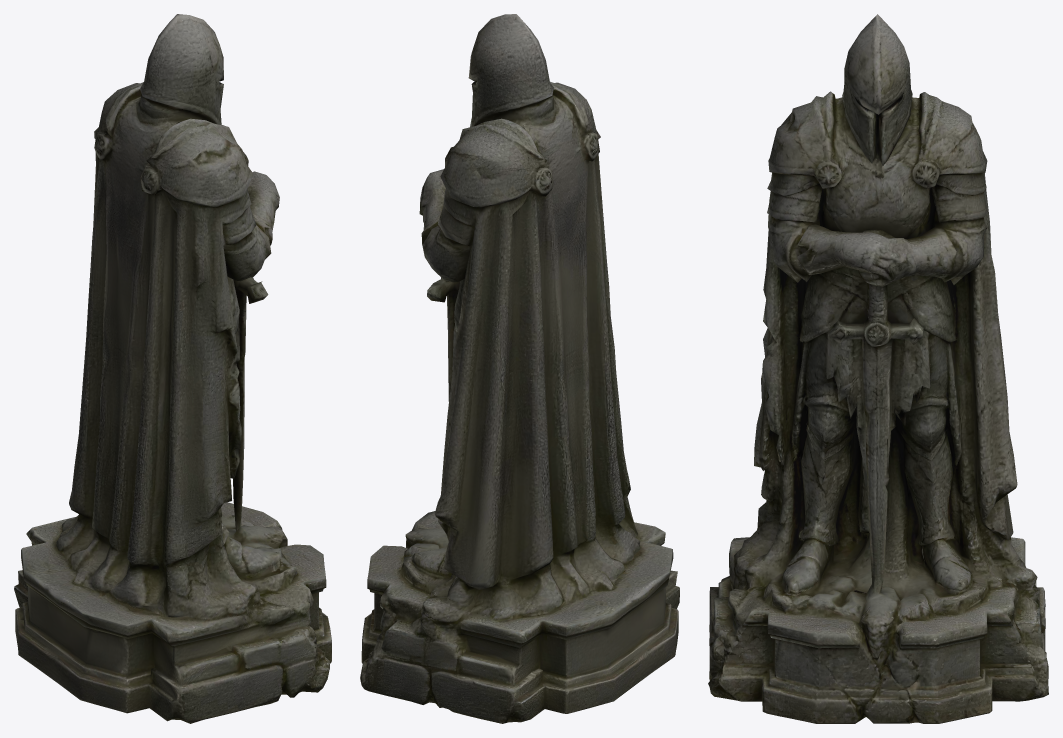
Rendered from guardian-statue.glb.
The picture shows the model from 3 angles, left to right: view 1: azimuth 30°, elevation 25°; view 2: azimuth 150°, elevation 25°; view 3: azimuth 270°, elevation 25°; orthographic projection. The views are drawn at different scales.
Parts seen in each view (by area): view 1: tripo_node_b69c8701-ad17-4577-a87c-157f61c6d0cb; view 2: tripo_node_b69c8701-ad17-4577-a87c-157f61c6d0cb; view 3: tripo_node_b69c8701-ad17-4577-a87c-157f61c6d0cb.
Part boxes in pixels (x1,y1,x2,y2): tripo_node_b69c8701-ad17-4577-a87c-157f61c6d0cb: (14,14,331,723); tripo_node_b69c8701-ad17-4577-a87c-157f61c6d0cb: (360,14,679,723); tripo_node_b69c8701-ad17-4577-a87c-157f61c6d0cb: (708,14,1048,723).
Bounding box in the file's own units: 0.4111 × 1 × 0.4737.
Materials: 1 (1 with a texture image).
